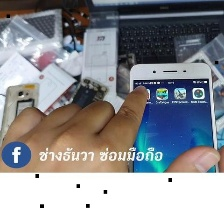phone: (123, 56, 224, 224), (0, 77, 46, 158), (55, 73, 112, 137)
